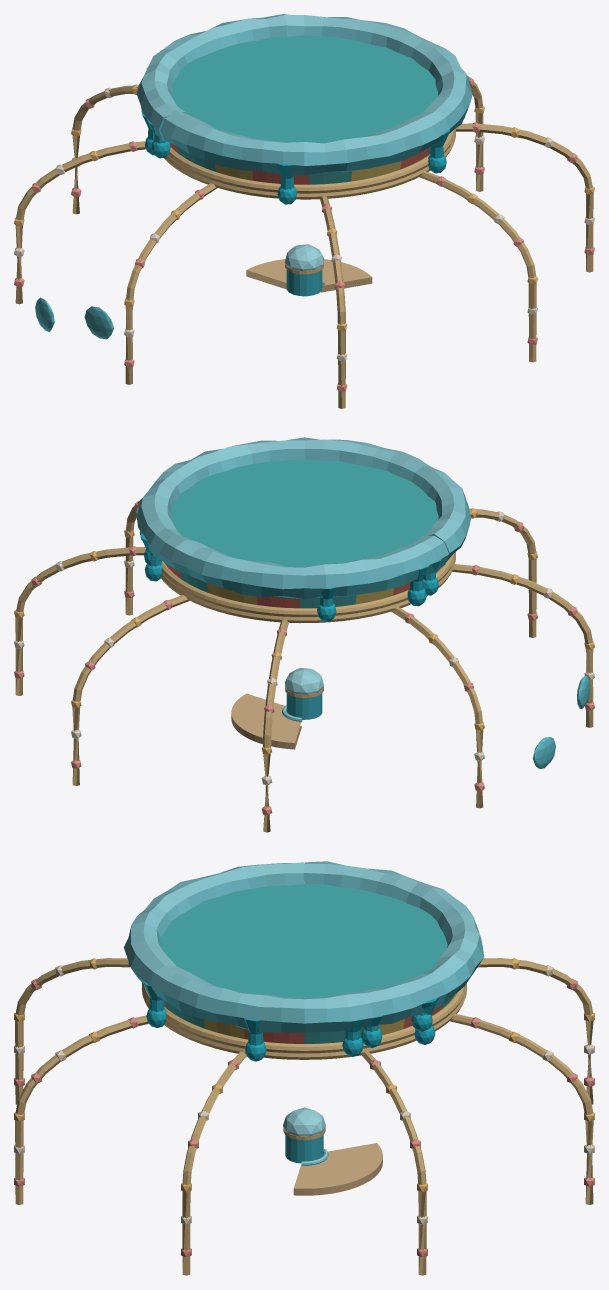
File: goo_jar_trim_3_top@beach.fbx
3 views of the same model, one above another, from view 1: azimuth 30°, elevation 25°; view 2: azimuth 150°, elevation 25°; view 3: azimuth 270°, elevation 25° (orthographic). The views are drawn at different scales.
Parts seen in each view (by area): view 1: goo_jar_trim_3_top; view 2: goo_jar_trim_3_top; view 3: goo_jar_trim_3_top.
Part boxes in pixels (bbox=[...]): goo_jar_trim_3_top: bbox=[14, 14, 594, 408]; goo_jar_trim_3_top: bbox=[14, 437, 594, 832]; goo_jar_trim_3_top: bbox=[14, 861, 594, 1275].
Size of the model in its own units: 47.41 by 20.21 by 45.53.
